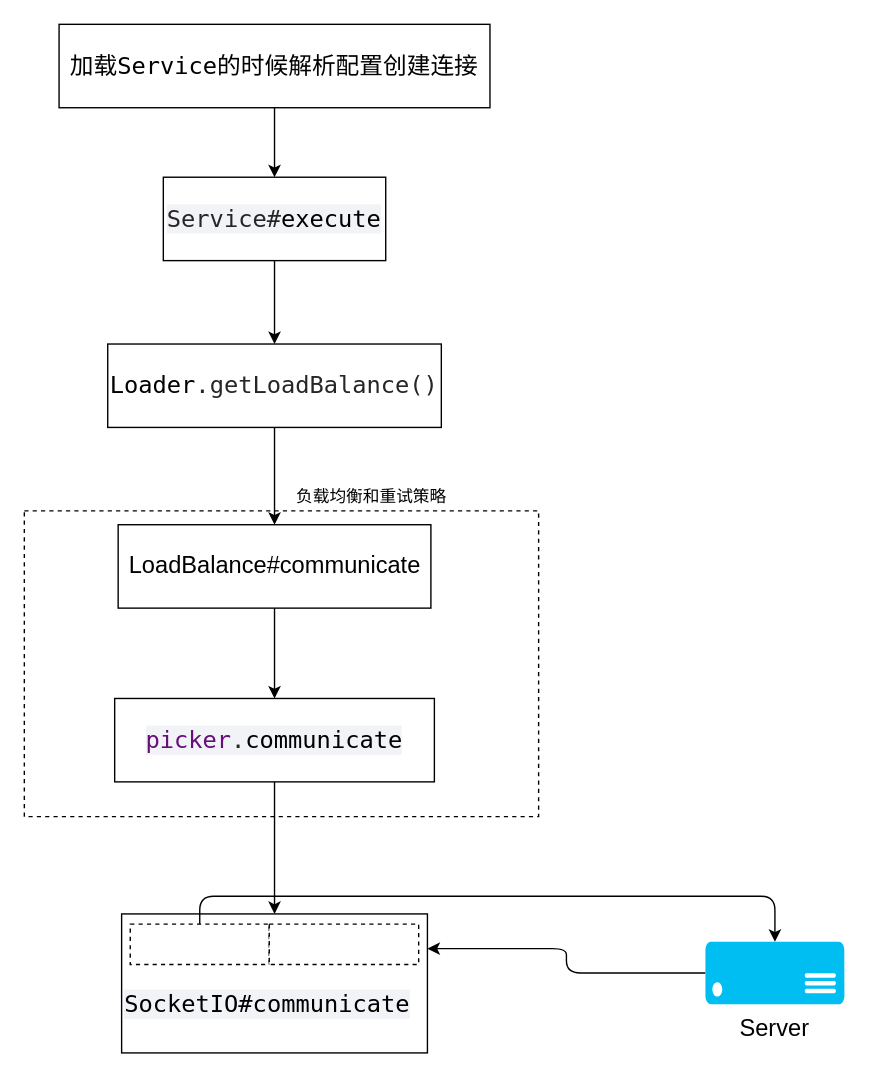
This 869x1077 diagram has some shape labels left out. Here are the shapes that lost their labels. From the top down, the centre of each, then its label:
At point (199, 944): "OutputStream".
At point (343, 944): "InputStream".
